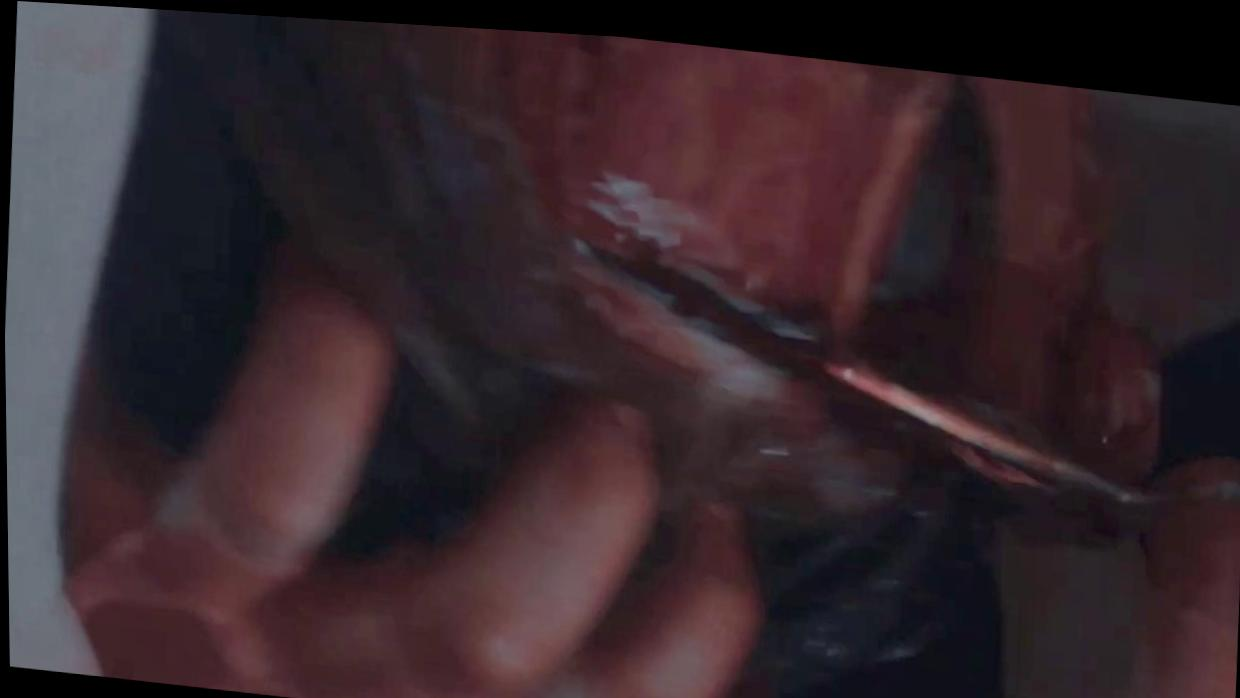Fire: (60, 8, 1240, 698)
